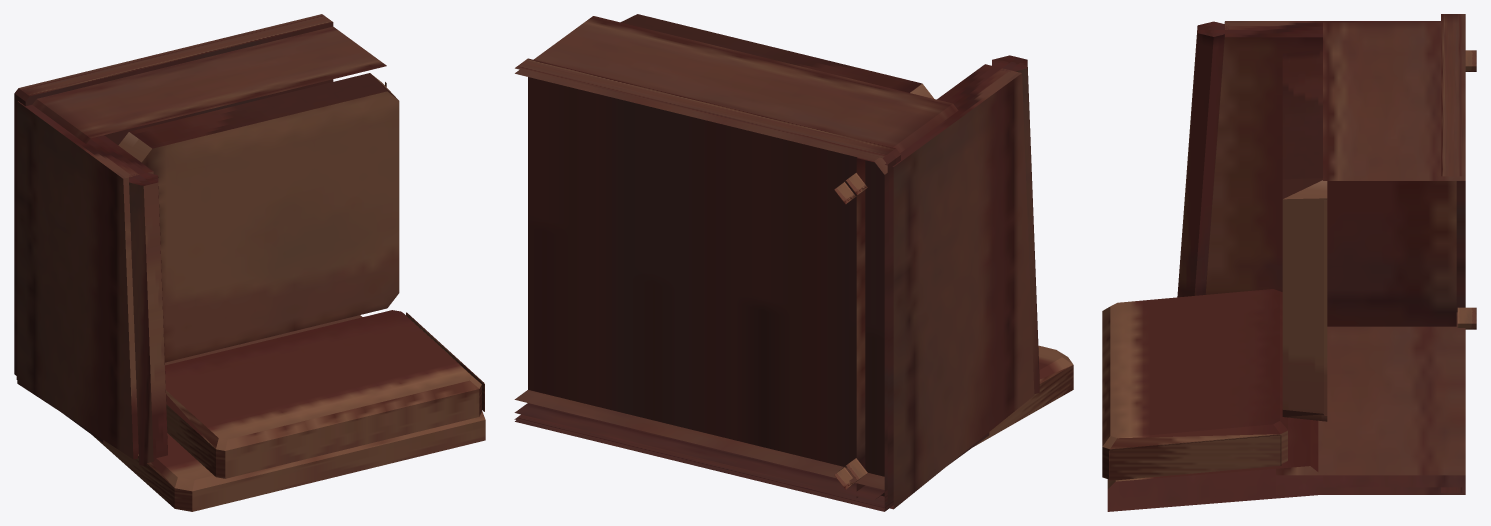
Rendered from pz_sofa_seating_indoor_02_brown_lazy_0_0_fidelity_r1.obj.
3 views of the same model, side by side, from view 1: azimuth 30°, elevation 25°; view 2: azimuth 150°, elevation 25°; view 3: azimuth 270°, elevation 25° (orthographic). The views are drawn at different scales.
Parts seen in each view (by area): view 1: pz_sofa_seating_indoor_02_brown_lazy_0_0__seat_0__seat, pz_sofa_seating_indoor_02_brown_lazy_0_0__back_cushion_0__back, pz_sofa_seating_indoor_02_brown_lazy_0_0__lazy_arm_panel_-1__arm, pz_sofa_seating_indoor_02_brown_lazy_0_0__lower_body__body, pz_sofa_seating_indoor_02_brown_lazy_0_0__rear_shell__back, pz_sofa_seating_indoor_02_brown_lazy_0_0__sloping_rail_-1__arm, pz_sofa_seating_indoor_02_brown_lazy_0_0__low_plinth__body, pz_sofa_seating_indoor_02_brown_lazy_0_0__rear_body_bridge__body; view 2: pz_sofa_seating_indoor_02_brown_lazy_0_0__low_plinth__body, pz_sofa_seating_indoor_02_brown_lazy_0_0__lazy_arm_panel_-1__arm, pz_sofa_seating_indoor_02_brown_lazy_0_0__lower_body__body, pz_sofa_seating_indoor_02_brown_lazy_0_0__rear_body_bridge__body, pz_sofa_seating_indoor_02_brown_lazy_0_0__seat_0__seat, pz_sofa_seating_indoor_02_brown_lazy_0_0__sloping_rail_-1__arm, pz_sofa_seating_indoor_02_brown_lazy_0_0__rear_shell__back; view 3: pz_sofa_seating_indoor_02_brown_lazy_0_0__lazy_arm_panel_-1__arm, pz_sofa_seating_indoor_02_brown_lazy_0_0__back_cushion_0__back, pz_sofa_seating_indoor_02_brown_lazy_0_0__rear_body_bridge__body, pz_sofa_seating_indoor_02_brown_lazy_0_0__lower_body__body, pz_sofa_seating_indoor_02_brown_lazy_0_0__seat_0__seat, pz_sofa_seating_indoor_02_brown_lazy_0_0__sloping_rail_-1__arm, pz_sofa_seating_indoor_02_brown_lazy_0_0__rear_shell__back, pz_sofa_seating_indoor_02_brown_lazy_0_0__back_cushion_1__back, pz_sofa_seating_indoor_02_brown_lazy_0_0__low_plinth__body, pz_sofa_seating_indoor_02_brown_lazy_0_0__seat_1__seat, pz_sofa_seating_indoor_02_brown_lazy_0_0__foot_-1_-1__frame.
Part boxes in pixels (box(x1,y1,x2,y2)): pz_sofa_seating_indoor_02_brown_lazy_0_0__seat_0__seat: box(118, 73, 399, 362); pz_sofa_seating_indoor_02_brown_lazy_0_0__back_cushion_0__back: box(165, 310, 481, 478); pz_sofa_seating_indoor_02_brown_lazy_0_0__lazy_arm_panel_-1__arm: box(17, 101, 153, 459); pz_sofa_seating_indoor_02_brown_lazy_0_0__lower_body__body: box(32, 26, 386, 143); pz_sofa_seating_indoor_02_brown_lazy_0_0__rear_shell__back: box(93, 411, 485, 511); pz_sofa_seating_indoor_02_brown_lazy_0_0__sloping_rail_-1__arm: box(129, 172, 167, 466); pz_sofa_seating_indoor_02_brown_lazy_0_0__low_plinth__body: box(14, 14, 333, 376); pz_sofa_seating_indoor_02_brown_lazy_0_0__rear_body_bridge__body: box(16, 315, 362, 442); pz_sofa_seating_indoor_02_brown_lazy_0_0__low_plinth__body: box(514, 58, 900, 509); pz_sofa_seating_indoor_02_brown_lazy_0_0__lazy_arm_panel_-1__arm: box(856, 64, 1034, 509); pz_sofa_seating_indoor_02_brown_lazy_0_0__lower_body__body: box(514, 16, 958, 500); pz_sofa_seating_indoor_02_brown_lazy_0_0__rear_body_bridge__body: box(514, 390, 989, 511); pz_sofa_seating_indoor_02_brown_lazy_0_0__seat_0__seat: box(620, 14, 933, 98); pz_sofa_seating_indoor_02_brown_lazy_0_0__sloping_rail_-1__arm: box(992, 55, 1039, 393); pz_sofa_seating_indoor_02_brown_lazy_0_0__rear_shell__back: box(974, 345, 1073, 446); pz_sofa_seating_indoor_02_brown_lazy_0_0__lazy_arm_panel_-1__arm: box(1205, 21, 1456, 326); pz_sofa_seating_indoor_02_brown_lazy_0_0__back_cushion_0__back: box(1102, 289, 1287, 479); pz_sofa_seating_indoor_02_brown_lazy_0_0__rear_body_bridge__body: box(1276, 312, 1465, 494); pz_sofa_seating_indoor_02_brown_lazy_0_0__lower_body__body: box(1323, 22, 1465, 487); pz_sofa_seating_indoor_02_brown_lazy_0_0__seat_0__seat: box(1282, 49, 1327, 421); pz_sofa_seating_indoor_02_brown_lazy_0_0__sloping_rail_-1__arm: box(1177, 21, 1229, 297); pz_sofa_seating_indoor_02_brown_lazy_0_0__rear_shell__back: box(1107, 417, 1318, 511); pz_sofa_seating_indoor_02_brown_lazy_0_0__back_cushion_1__back: box(1109, 435, 1281, 480); pz_sofa_seating_indoor_02_brown_lazy_0_0__low_plinth__body: box(1441, 14, 1465, 492); pz_sofa_seating_indoor_02_brown_lazy_0_0__seat_1__seat: box(1324, 199, 1327, 415); pz_sofa_seating_indoor_02_brown_lazy_0_0__foot_-1_-1__frame: box(1457, 307, 1476, 329).
Bounding box in the file's own units: 0.8671 × 0.8232 × 0.8316.
1 material, 1 textured.
